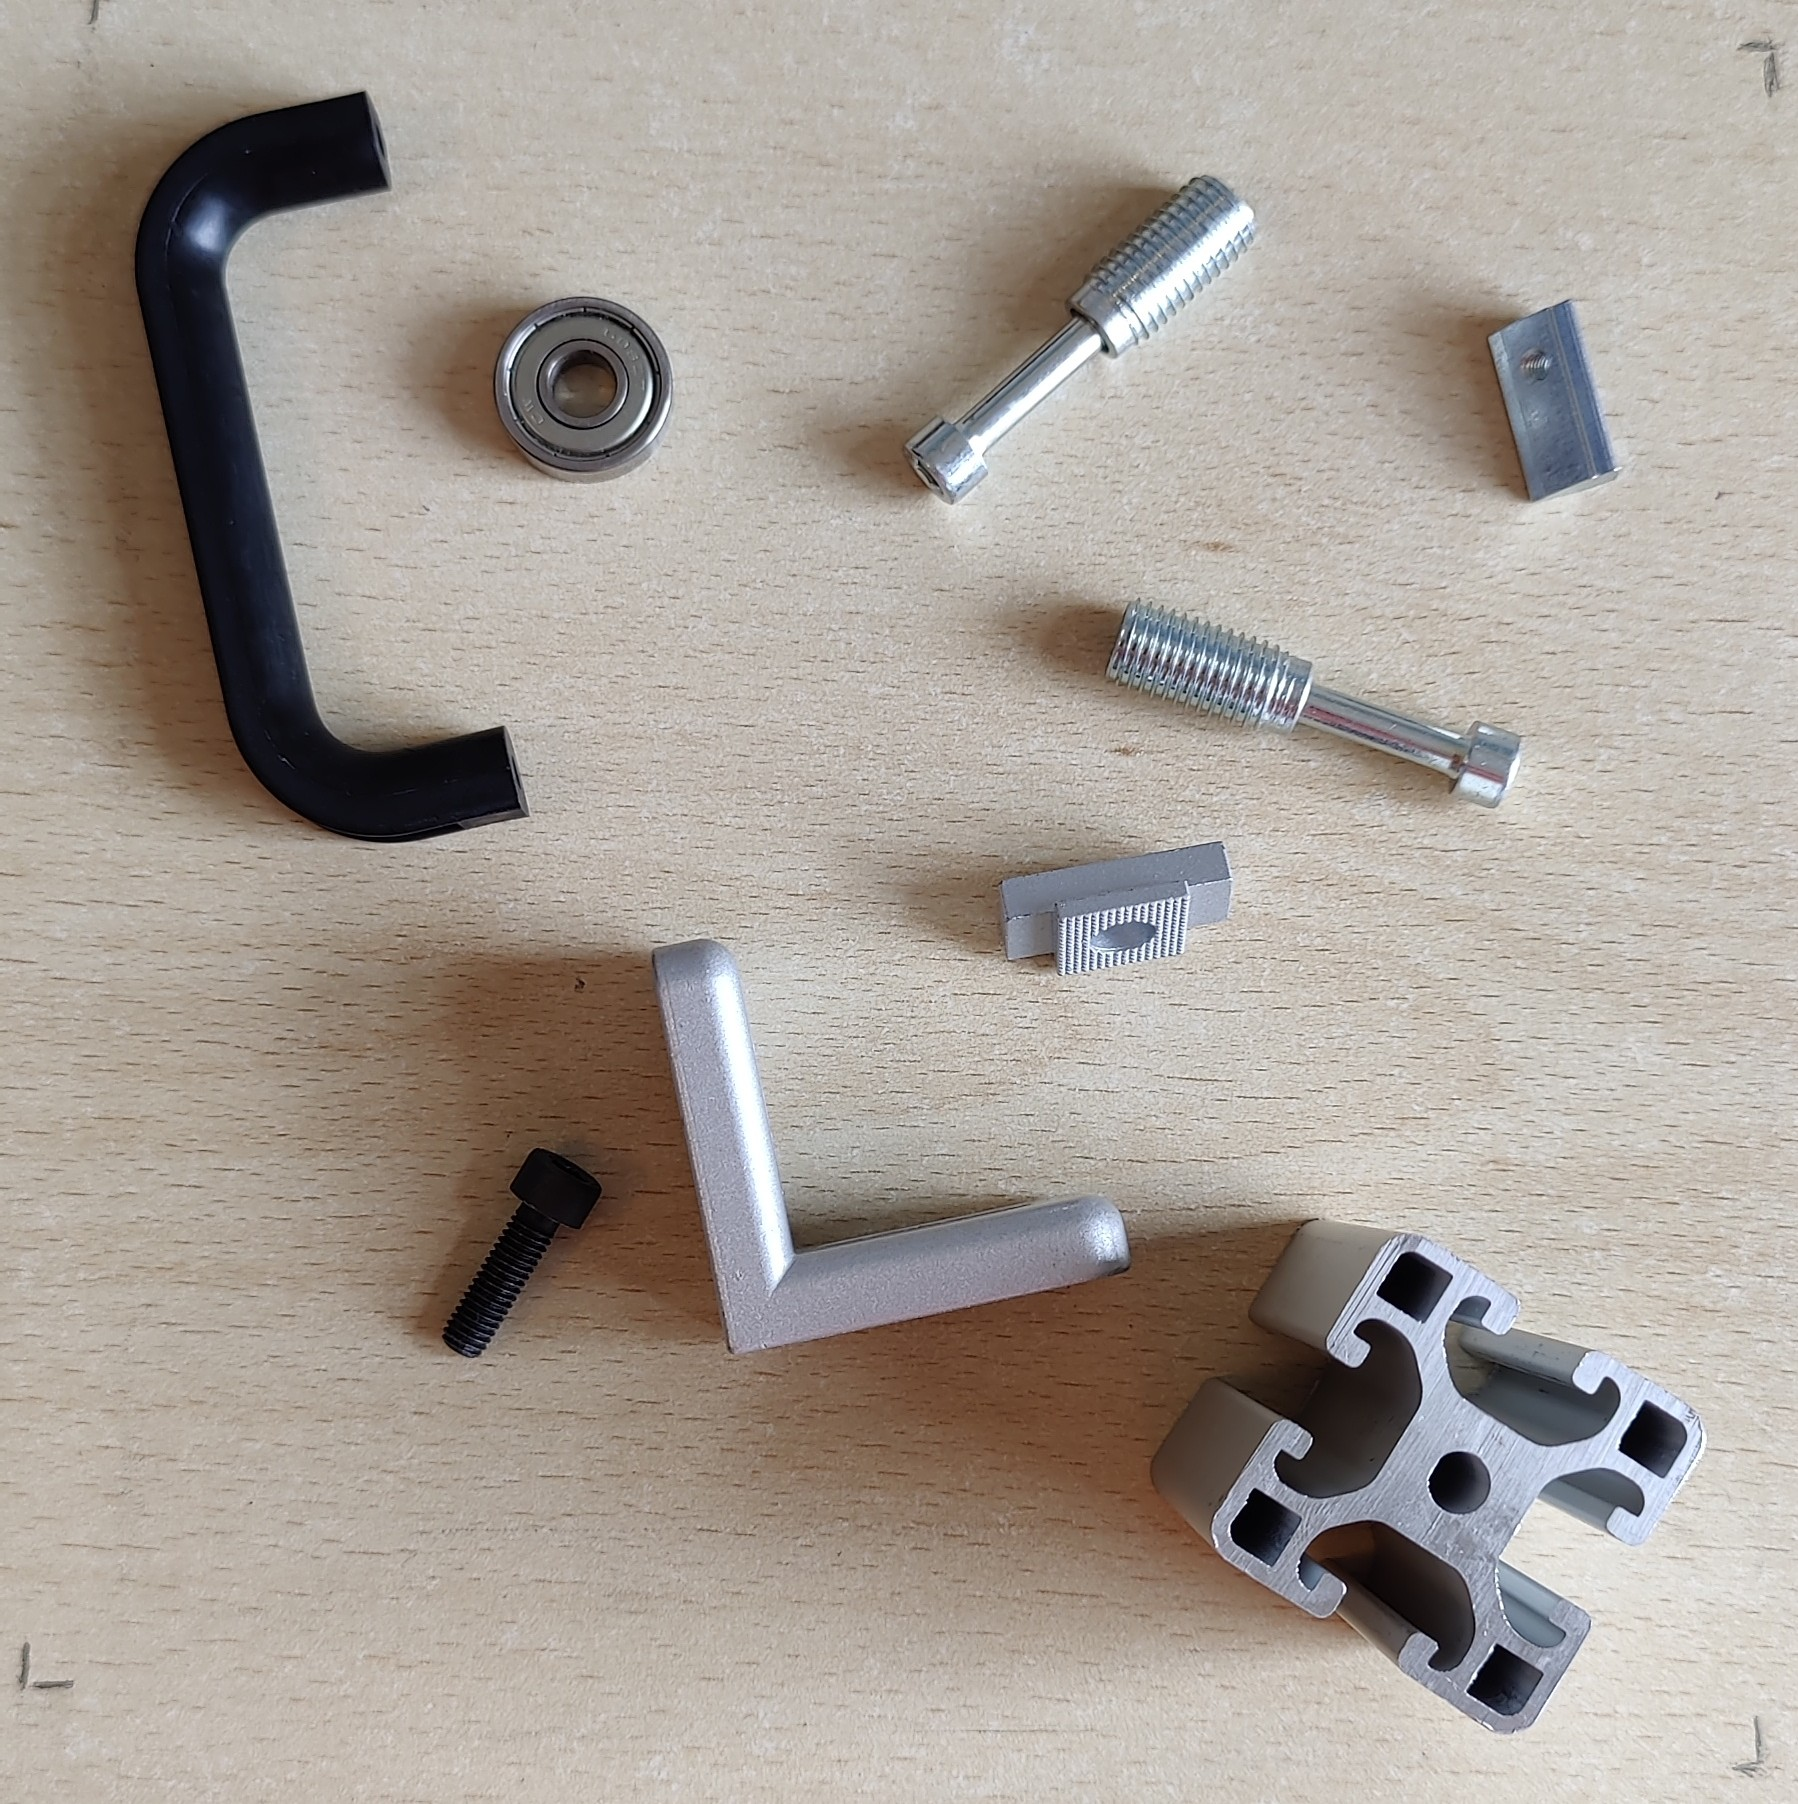Aluminium Extension: (1148, 1216, 1707, 1740)
Ball Bearing: (489, 295, 677, 486)
Multiwinkel: (649, 937, 1134, 1360)
Pull Handle: (130, 86, 532, 844)
Shoulder Socket Head Cap Screw: (899, 170, 1261, 509), (1098, 593, 1526, 811)
Socket Head Cap Screw: (440, 1142, 604, 1360)
T Nut Square: (994, 843, 1235, 979)
T Spring Nut: (1484, 296, 1622, 505)
